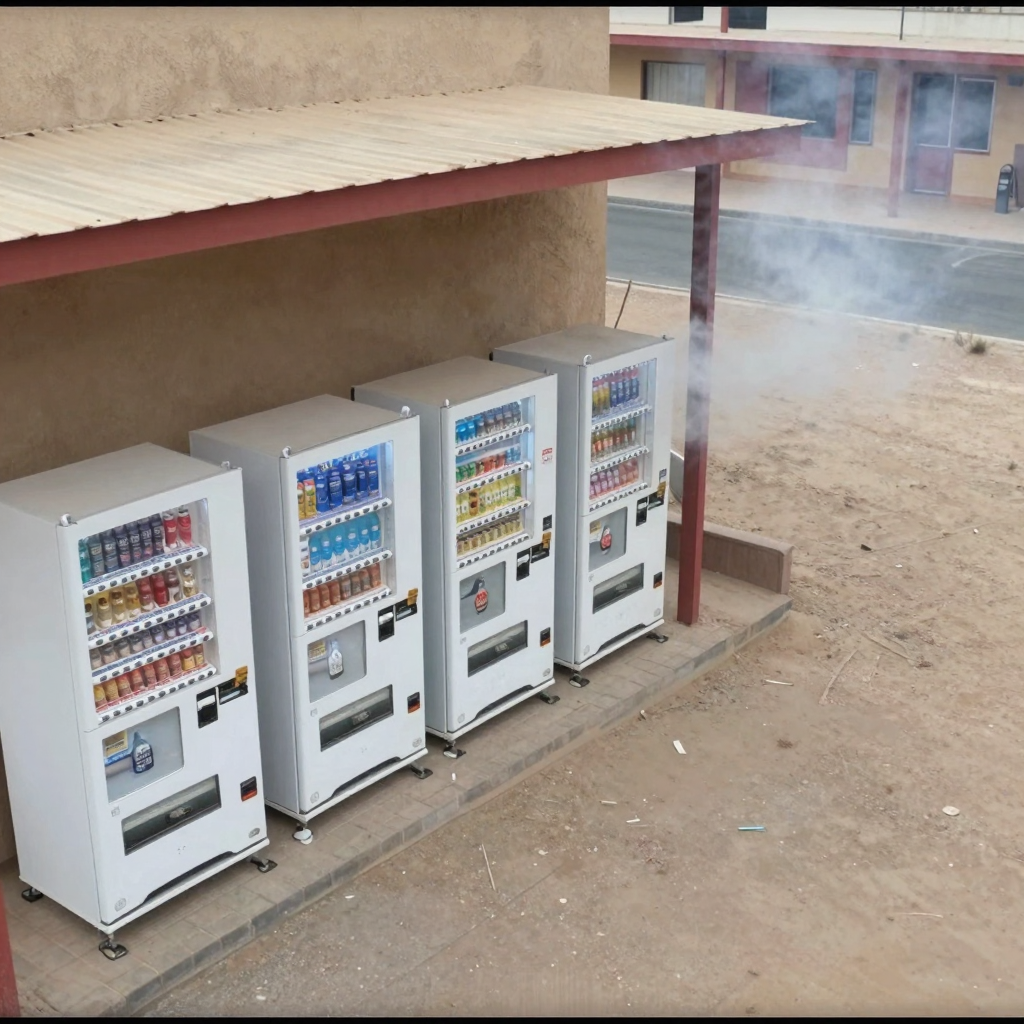Explosion: (558, 6, 1024, 477)
